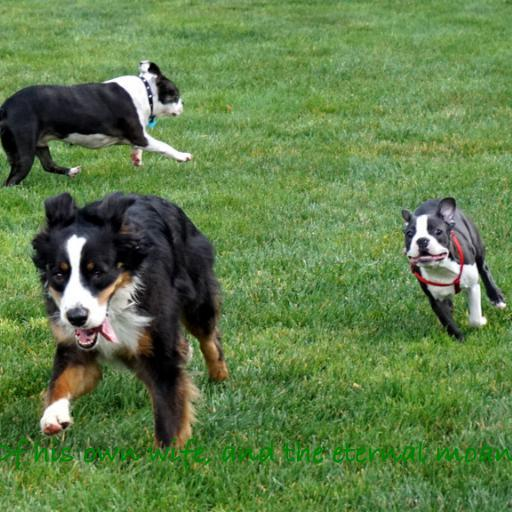Bradley Hand: (0, 438, 512, 471)
